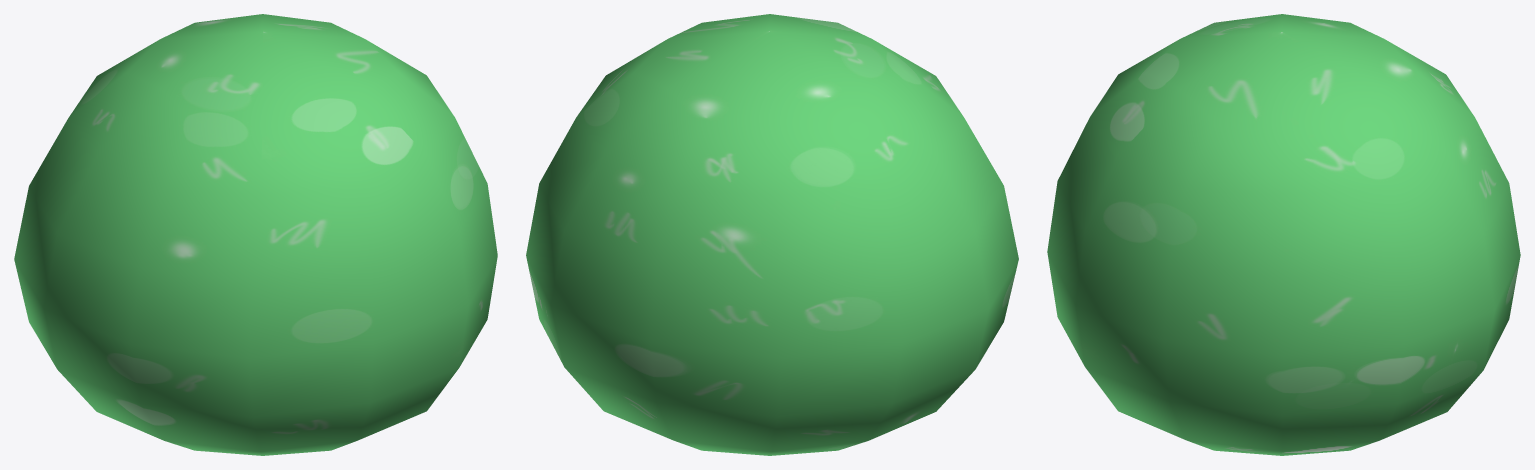
The model's file is buisson_1.fbx.
3 renders of one model, left to right at view 1: azimuth 30°, elevation 25°; view 2: azimuth 150°, elevation 25°; view 3: azimuth 270°, elevation 25°, orthographic.
Visible parts, largest first — view 1: pSphere1; view 2: pSphere1; view 3: pSphere1.
Boxes of the visible parts, x1,y1,x2,y2 form: pSphere1: (14, 14, 497, 455); pSphere1: (526, 14, 1018, 455); pSphere1: (1047, 14, 1520, 455).
Bounding box in the file's own units: 1.47 × 1.3 × 1.42.
Materials: 1 (1 with a texture image).
